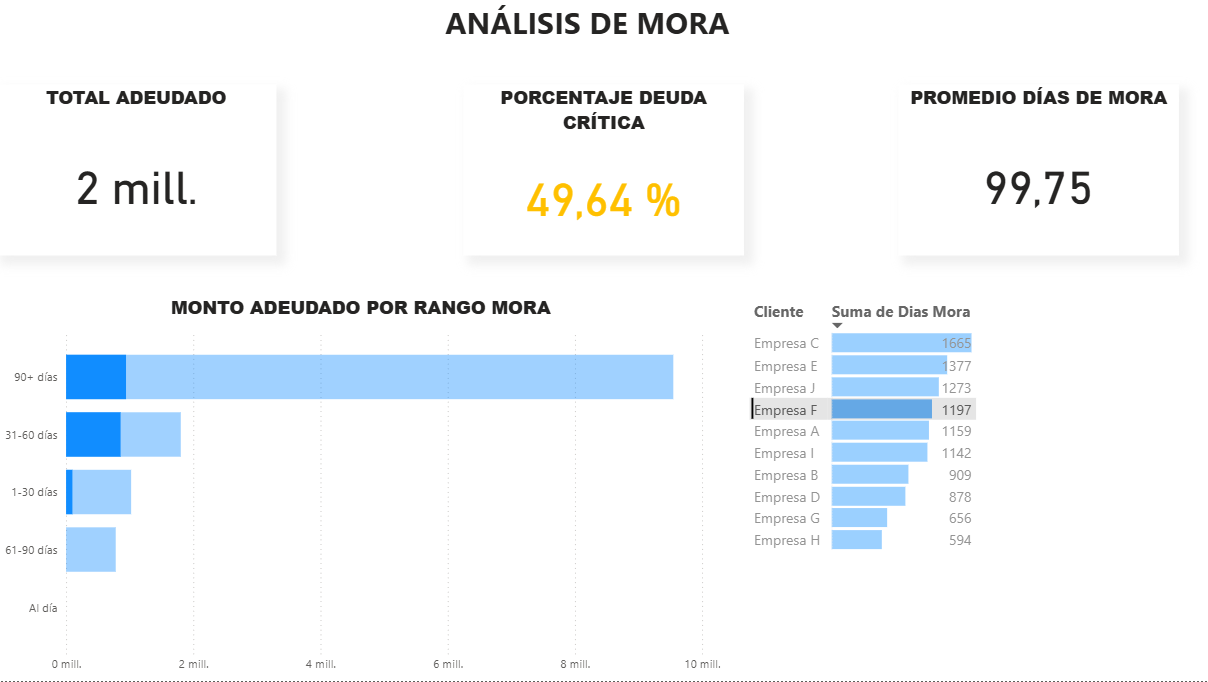

The dashboard page shown, as its layout file describes it:
{"tool":"powerbi","page":{"name":"Análisis Aging de deuda","canvas":[1280,720],"ordinal":1},"visuals":[{"type":"clusteredBarChart","title":"MONTO ADEUDADO POR RANGO MORA","fields":{"Category":["cartera_contable.Rango Mora"],"Y":["cartera_contable.Monto Adeudado"]},"box":[0,312.5,767.5,407.5],"z":0},{"type":"card","title":"TOTAL ADEUDADO","fields":{"Values":["cartera_contable.Monto Adeudado Total"]},"box":[0,92.5,295,180],"z":1000},{"type":"card","title":"PORCENTAJE DEUDA CRÍTICA","fields":{"Values":["cartera_contable.Porcentaje Deuda Critica"]},"box":[492.5,92.5,295,180],"z":2000},{"type":"card","title":"PROMEDIO DÍAS DE MORA","fields":{"Values":["Avg(cartera_contable.Dias Mora)"]},"box":[950,92.5,295,180],"z":3000},{"type":"tableEx","fields":{"Values":["cartera_contable.Cliente","Sum(cartera_contable.Dias Mora)"]},"box":[786.2,312.5,493.8,407.5],"z":4000},{"type":"actionButton","box":[0,0,100,40],"z":5000},{"type":"textbox","box":[0,0,1245,73.8],"z":6000}]}

Visuals, with their boxes in screenshot pixels (x1, y1, x2, y2), scaled from the page's 1280x720 canvas onto the 1208x682 screenshot:
"MONTO ADEUDADO POR RANGO MORA" clusteredBarChart: x1=0, y1=296, x2=724, y2=681
"TOTAL ADEUDADO" card: x1=0, y1=88, x2=278, y2=258
"PORCENTAJE DEUDA CRÍTICA" card: x1=465, y1=88, x2=743, y2=258
"PROMEDIO DÍAS DE MORA" card: x1=897, y1=88, x2=1175, y2=258
tableEx - cartera_contable.Cliente x Sum(cartera_contable.Dias Mora): x1=742, y1=296, x2=1207, y2=681
actionButton: x1=0, y1=0, x2=94, y2=38
textbox: x1=0, y1=0, x2=1175, y2=70
